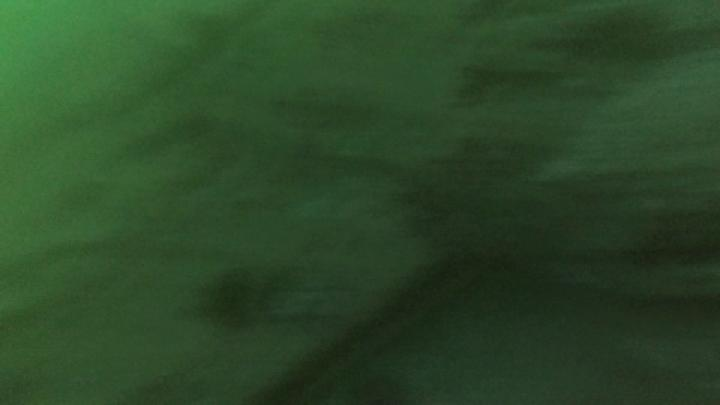starfish: (204, 265, 262, 330)
